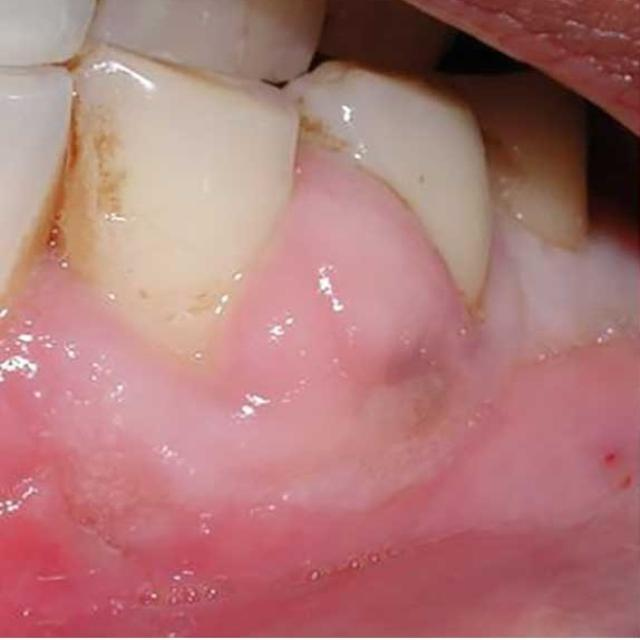abscess: (253, 140, 470, 402)
